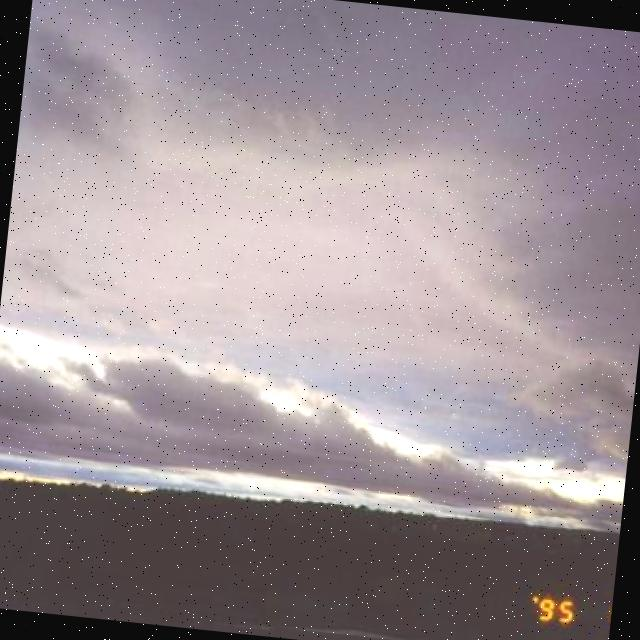St: (1, 38, 640, 526)
